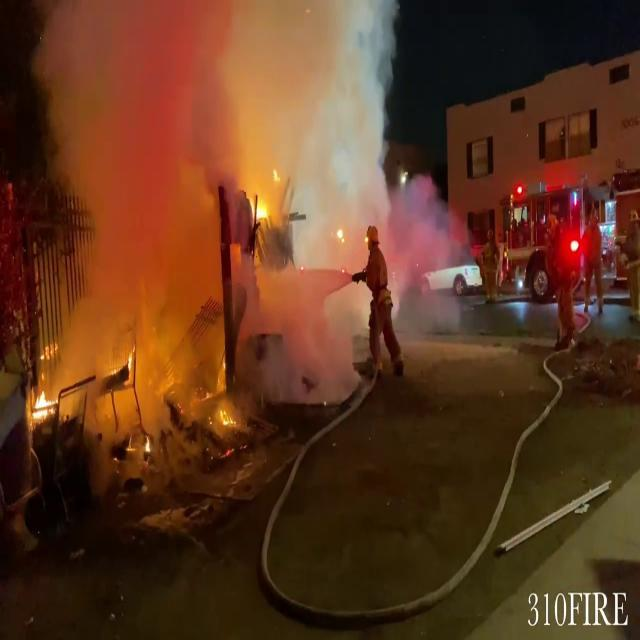Fire: (248, 179, 272, 229), (30, 380, 54, 424)
Smoke: (37, 1, 438, 415)
